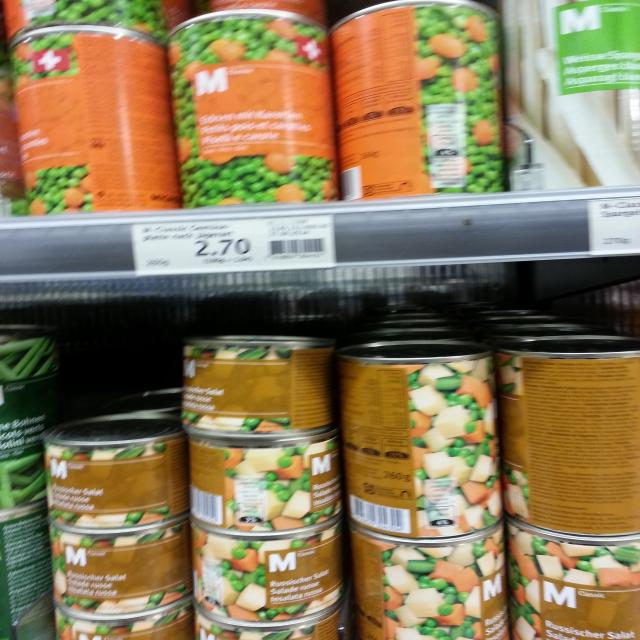Canned: (167, 8, 347, 209), (8, 23, 189, 216), (337, 0, 511, 196), (338, 337, 504, 540), (493, 334, 640, 538), (347, 517, 504, 640), (174, 331, 340, 444), (30, 417, 192, 532), (506, 515, 640, 640), (188, 430, 344, 532), (193, 521, 347, 624), (41, 519, 193, 615)
